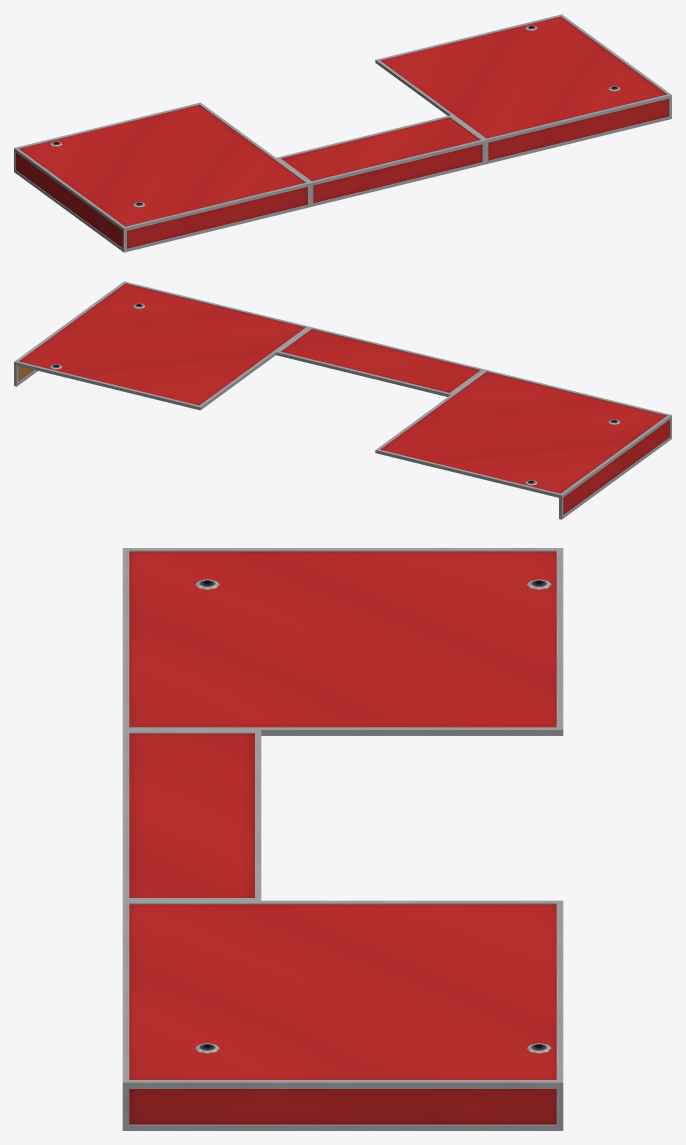
The model's file is jsf_4P_s03_c06_t02_DX.fbx.
The picture shows the model from 3 angles, top to bottom: view 1: azimuth 30°, elevation 25°; view 2: azimuth 150°, elevation 25°; view 3: azimuth 270°, elevation 25°; orthographic projection. The views are drawn at different scales.
Parts seen in each view (by area): view 1: jsf_4P_s03_c06_t02_DX; view 2: jsf_4P_s03_c06_t02_DX; view 3: jsf_4P_s03_c06_t02_DX.
Boxes of the visible parts, x1,y1,x2,y2 form: jsf_4P_s03_c06_t02_DX: [14, 14, 671, 252]; jsf_4P_s03_c06_t02_DX: [14, 281, 671, 519]; jsf_4P_s03_c06_t02_DX: [122, 548, 563, 1130].
Bounding box in the file's own units: 298 × 12.99 × 104.
